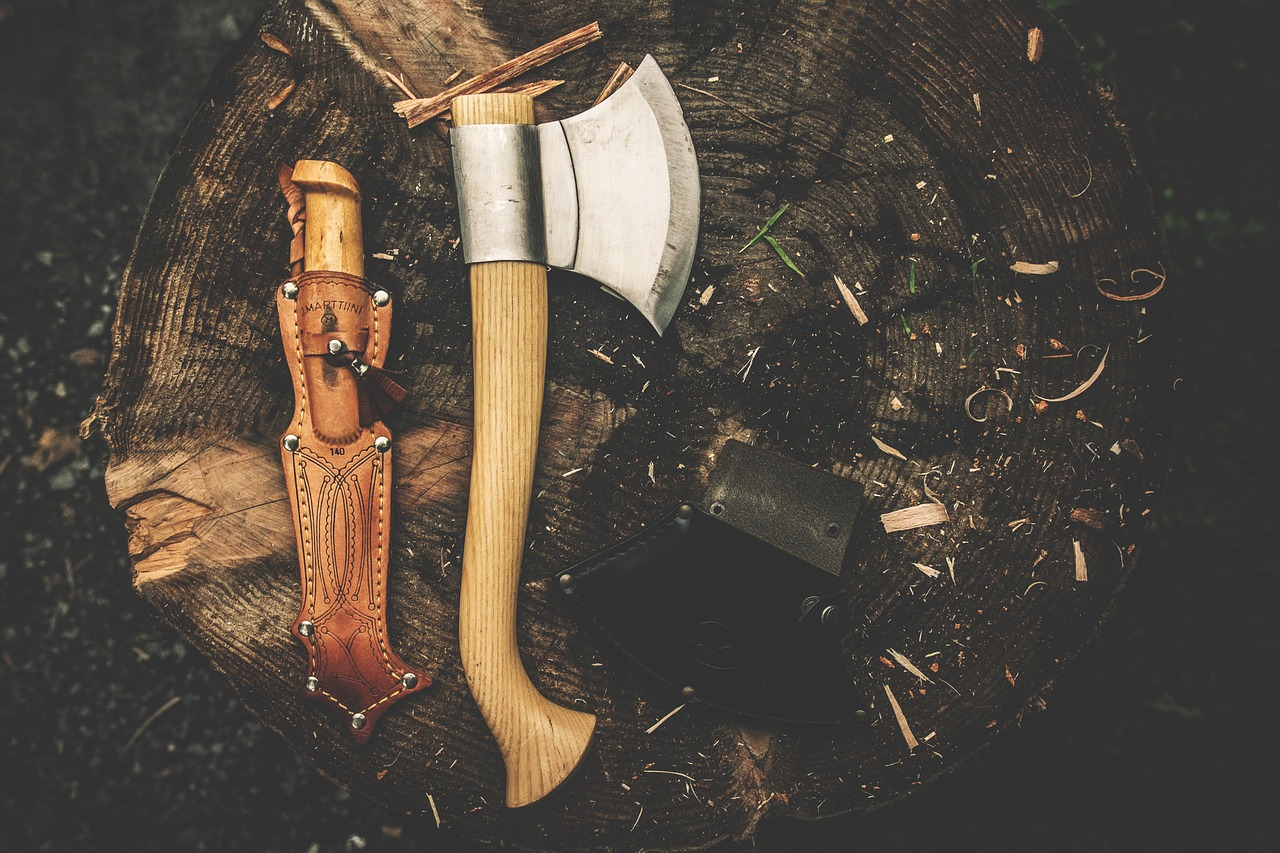knife: (270, 157, 435, 744)
